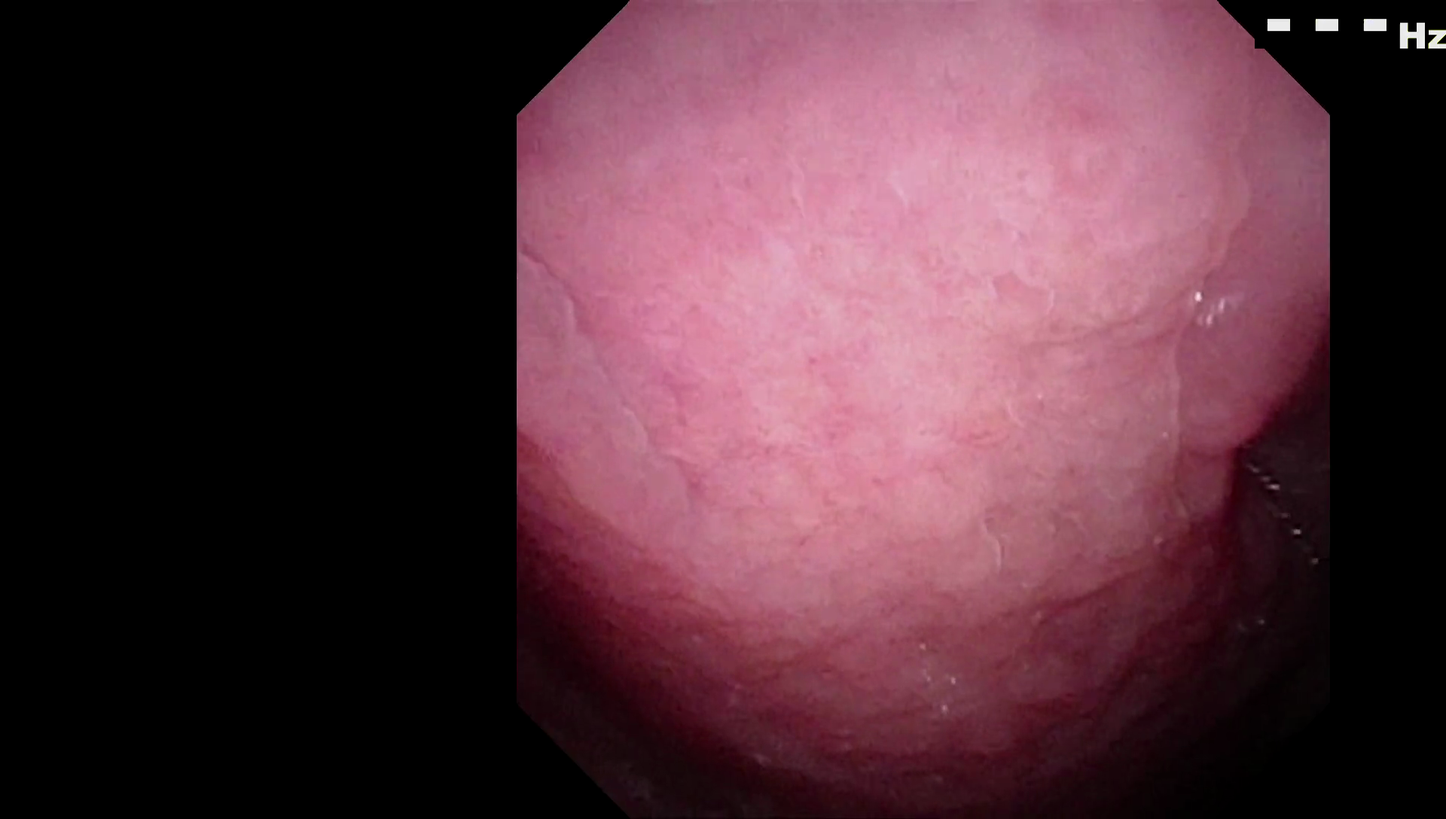close_wall: (590, 65, 1259, 648)
next: (1040, 596, 1334, 802), (1165, 363, 1340, 678), (532, 619, 751, 773)
